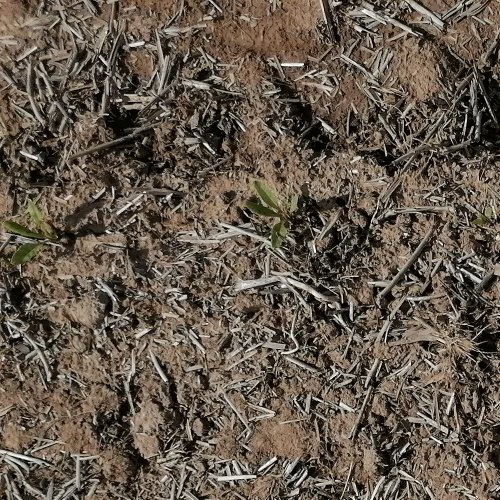beet: (3, 200, 62, 265), (247, 179, 292, 250), (470, 207, 500, 231)
